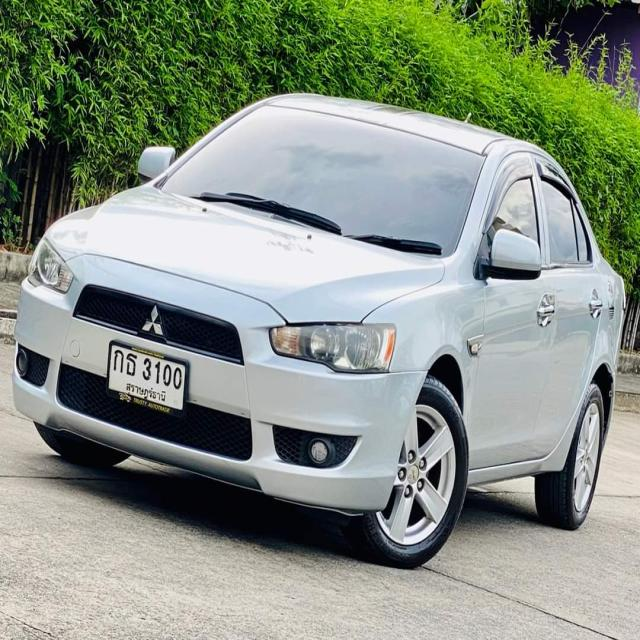license_plate: (104, 338, 191, 419)
